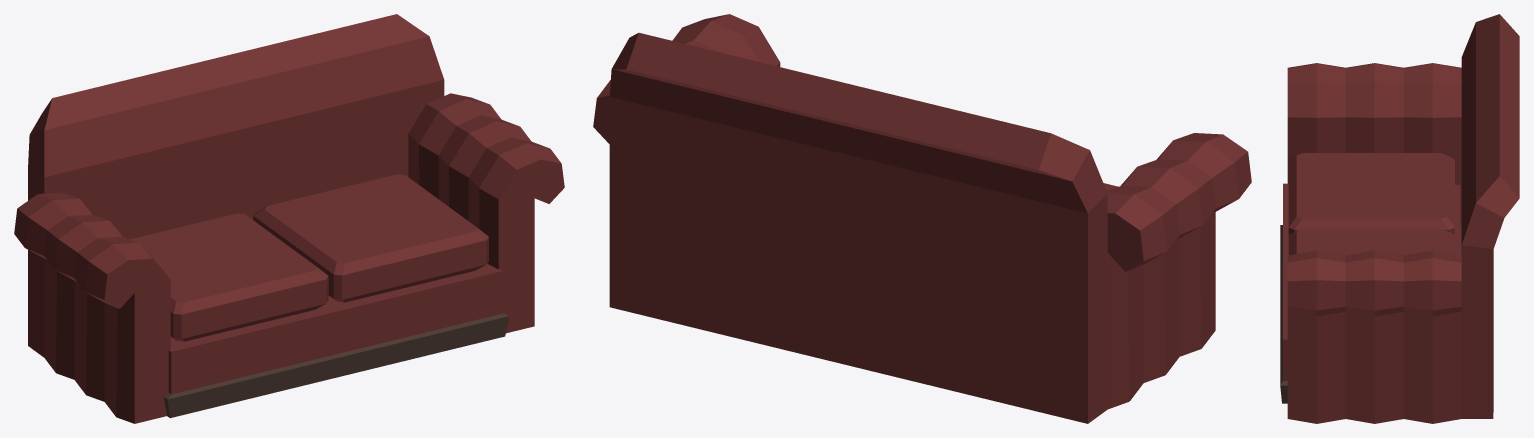
Rendered from LPHorror_Sofa.fbx.
3 renders of one model, left to right at view 1: azimuth 30°, elevation 25°; view 2: azimuth 150°, elevation 25°; view 3: azimuth 270°, elevation 25°, orthographic. The views are drawn at different scales.
Visible parts, largest first — view 1: Sofa; view 2: Sofa; view 3: Sofa.
Part boxes in pixels (<box>): Sofa: <box>14,14,564,423</box>; Sofa: <box>593,14,1251,423</box>; Sofa: <box>1280,14,1519,423</box>.
Size of the model in its own units: 296 by 146 by 136.
